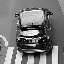motor: (12, 3, 46, 55)
